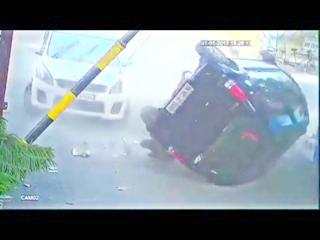Car: (142, 46, 307, 186), (23, 32, 130, 119)
Major Accident: (21, 30, 309, 188)
